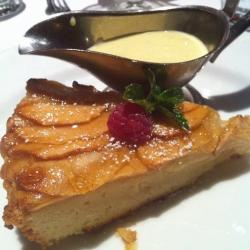apple_pie: (5, 74, 250, 246)
